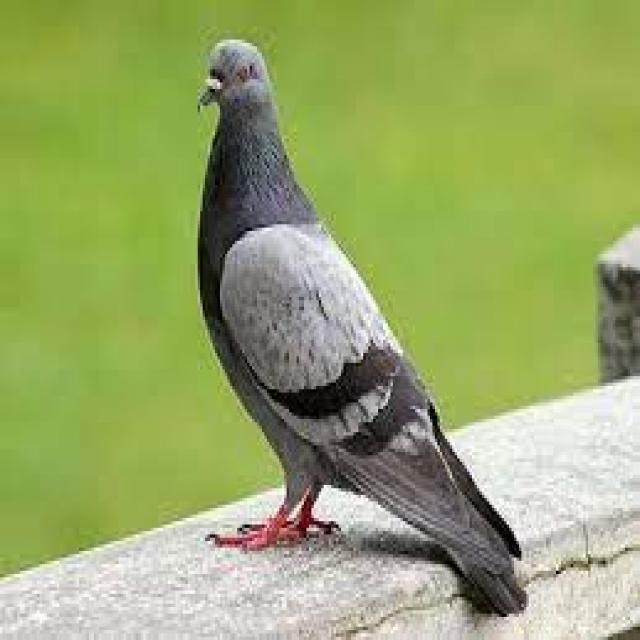bird: (181, 33, 544, 630)
